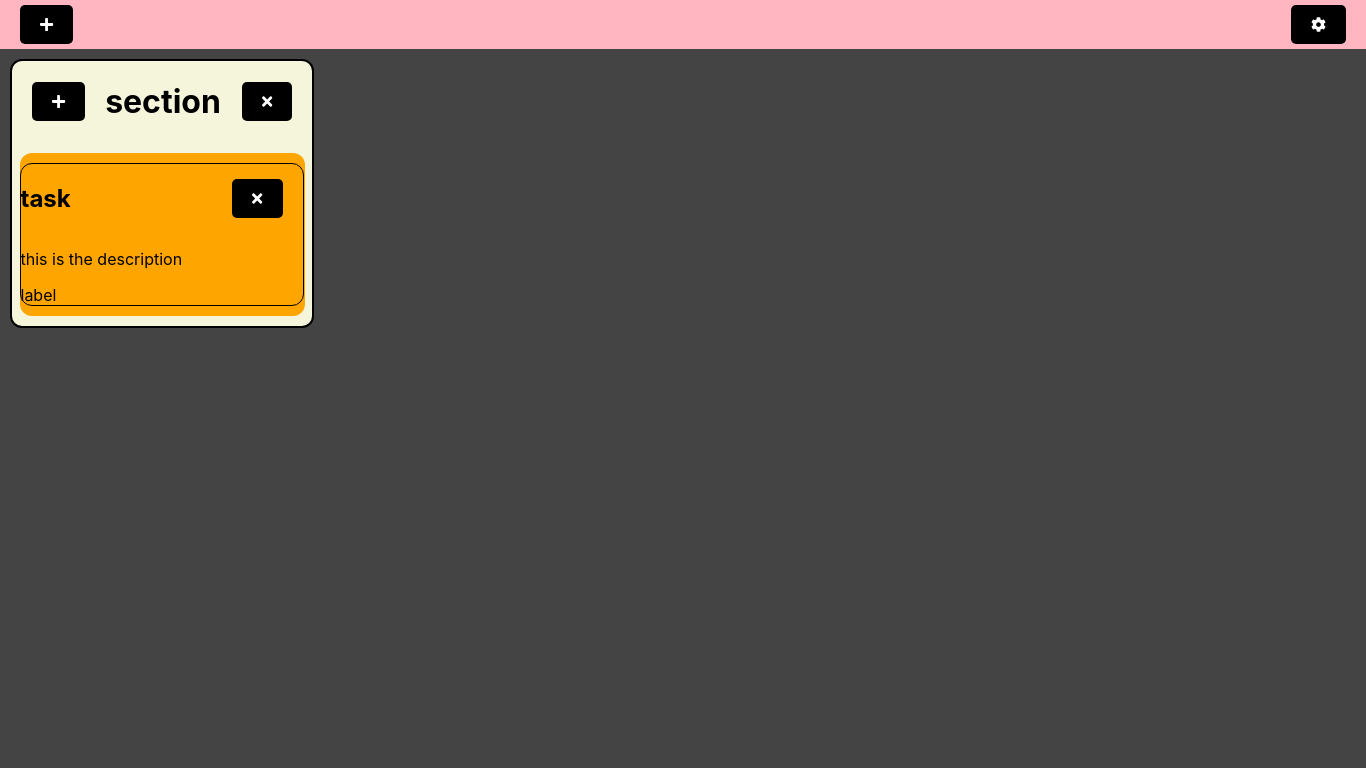
it: testing GET fetch functions + button interactivity › testing that clicking cog button on topbar brings up modal
Note: second instance will be the settings
Click the 2nd button: click(1318, 24) [1291,5,1346,44]
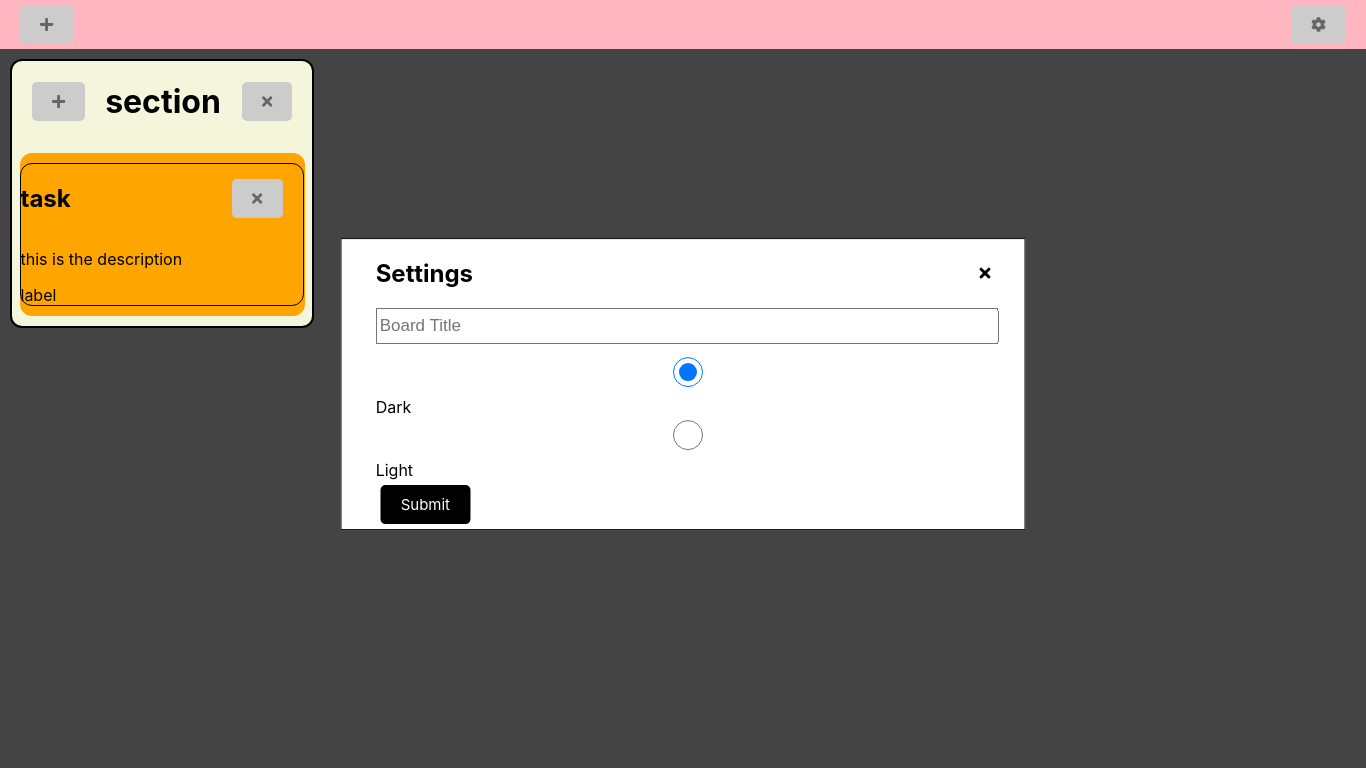
Result: the heading "Settings" is shown at [376,259,473,288]
